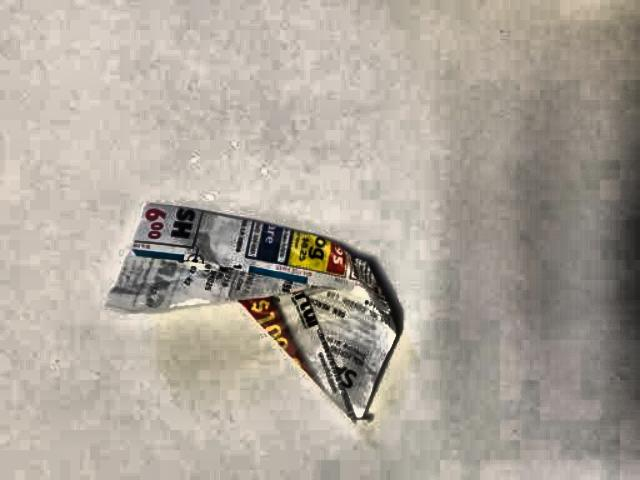Paper: (107, 195, 404, 423)
